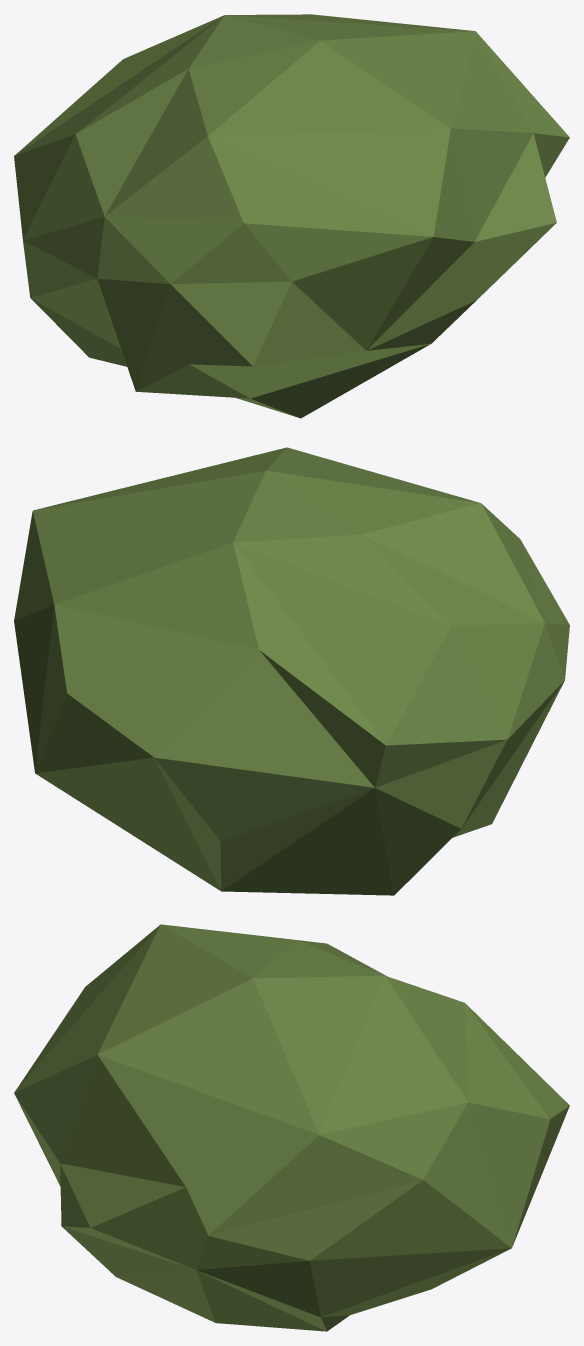
The model's file is SM_Bush_2.FBX.
3 views of the same model, one above another, from view 1: azimuth 30°, elevation 25°; view 2: azimuth 150°, elevation 25°; view 3: azimuth 270°, elevation 25° (orthographic). The views are drawn at different scales.
Visible parts, largest first — view 1: SM_Bush_2; view 2: SM_Bush_2; view 3: SM_Bush_2.
Boxes of the visible parts, <box> form: SM_Bush_2: <box>14,14,569,418</box>; SM_Bush_2: <box>14,447,569,895</box>; SM_Bush_2: <box>14,924,569,1331</box>.
Size of what is drawn, in the model's own units: 238 by 226 by 157.
